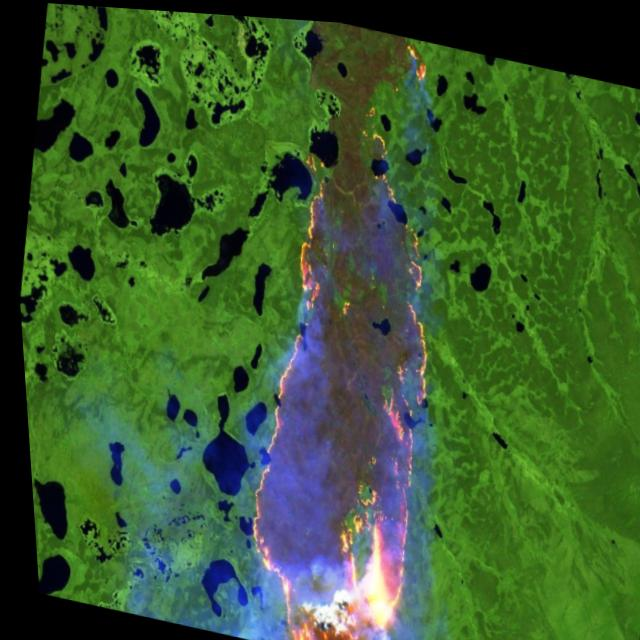fire: (197, 10, 499, 640)
